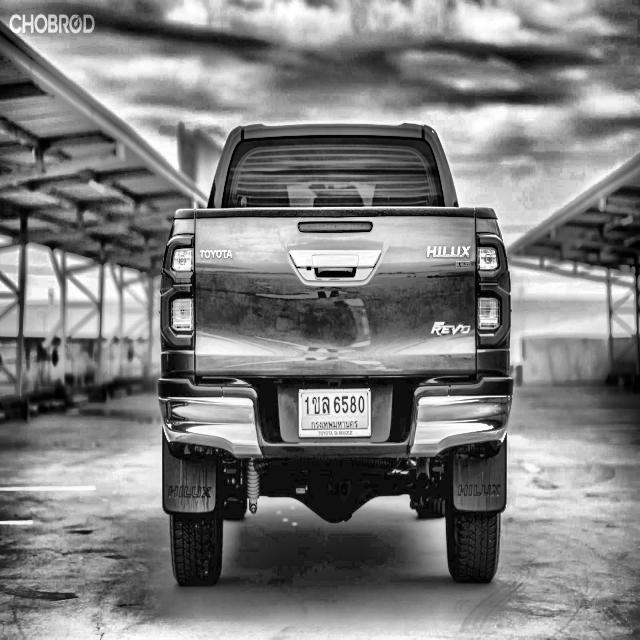license-plate: (295, 379, 373, 452)
